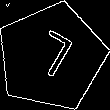L_SW: (25, 28, 77, 86)
